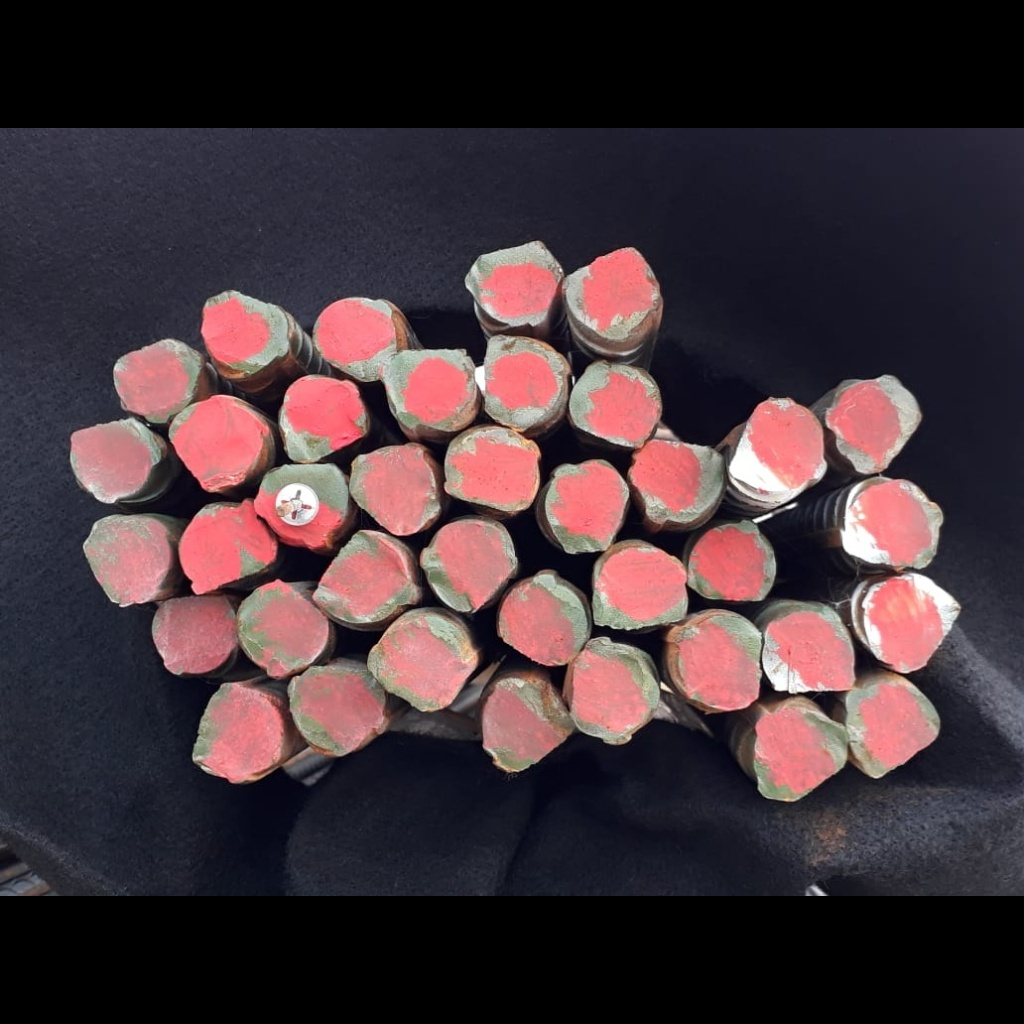dipstick: (834, 474, 949, 576), (854, 572, 966, 676), (730, 399, 828, 508), (367, 614, 474, 711), (188, 682, 289, 783), (845, 678, 943, 782), (562, 244, 661, 343), (674, 607, 766, 712), (830, 370, 920, 477), (166, 392, 266, 488), (477, 671, 569, 775), (751, 708, 849, 802), (179, 500, 279, 592), (284, 665, 385, 756), (569, 641, 657, 745), (239, 578, 331, 675), (446, 424, 541, 517), (425, 518, 519, 610), (255, 460, 349, 552), (765, 608, 860, 699), (462, 242, 563, 327), (349, 441, 438, 534), (632, 440, 727, 527), (478, 335, 566, 428), (545, 457, 631, 552), (312, 290, 399, 383), (195, 287, 289, 373), (591, 548, 690, 629), (497, 574, 584, 666), (82, 514, 169, 606), (570, 358, 658, 447), (280, 373, 368, 461), (111, 336, 200, 422), (65, 419, 156, 503), (690, 520, 776, 604), (152, 593, 239, 675), (388, 350, 472, 431)
